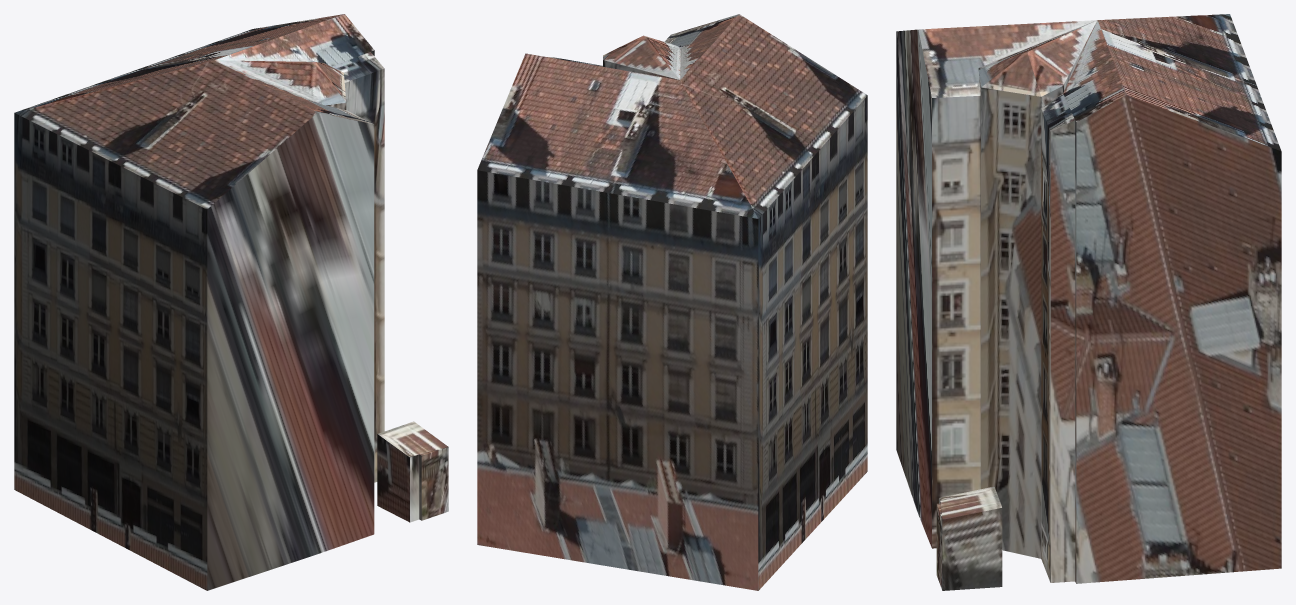
The picture shows the model from 3 angles, left to right: view 1: azimuth 30°, elevation 25°; view 2: azimuth 150°, elevation 25°; view 3: azimuth 270°, elevation 25°; orthographic projection. The views are drawn at different scales.
Parts seen in each view (by area): view 1: Z_UP; view 2: Z_UP; view 3: Z_UP.
Boxes of the visible parts, x1,y1,x2,y2 form: Z_UP: (14, 14, 448, 590); Z_UP: (477, 14, 867, 590); Z_UP: (896, 14, 1281, 590).
Bounding box in the file's own units: 19.5 × 27.3 × 19.51.
Materials: 2 (1 with a texture image).
